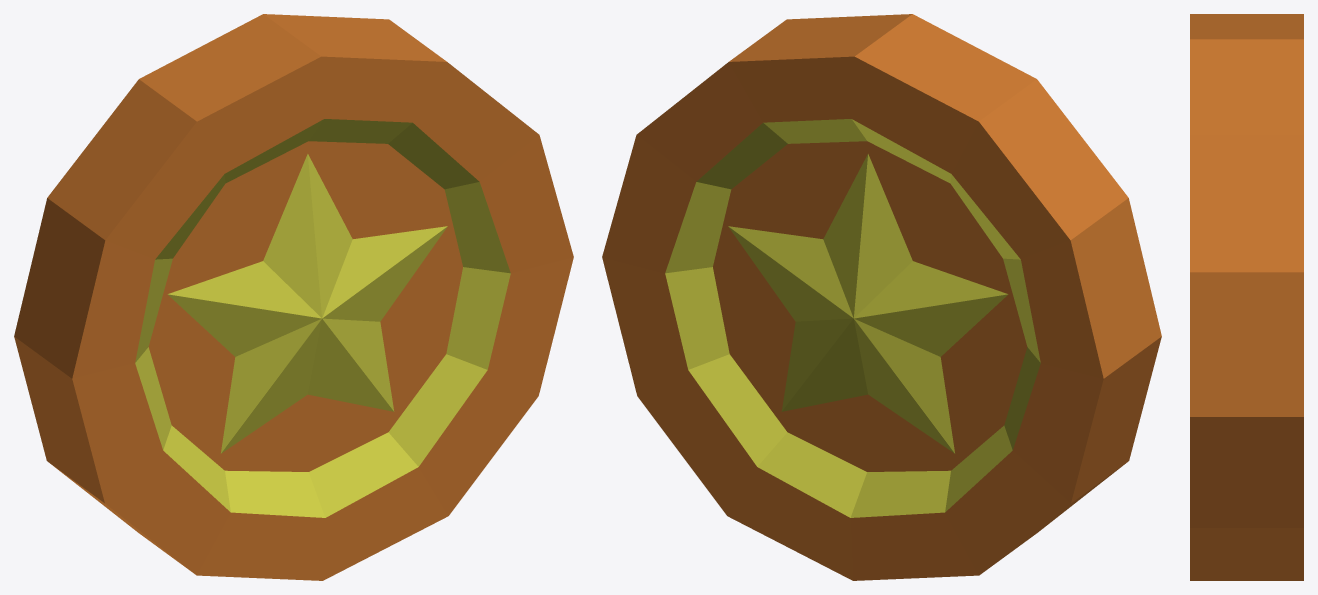
File: Coin.fbx
3 views of the same model, side by side, from view 1: azimuth 30°, elevation 25°; view 2: azimuth 150°, elevation 25°; view 3: azimuth 270°, elevation 25° (orthographic). The views are drawn at different scales.
Parts seen in each view (by area): view 1: Coin; view 2: Coin; view 3: Coin.
Boxes of the visible parts, <box> form: Coin: <box>14,14,573,580</box>; Coin: <box>602,14,1161,580</box>; Coin: <box>1190,14,1303,580</box>.
Bounding box in the file's own units: 39.84 × 39.82 × 8.
1 material, 1 textured.
